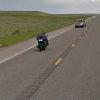Motorcycle: (28, 29, 50, 54)
